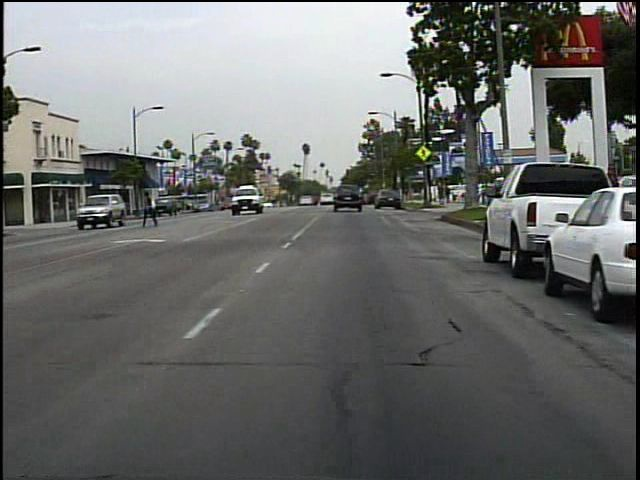person: (594, 162, 622, 235), (139, 187, 167, 230)
